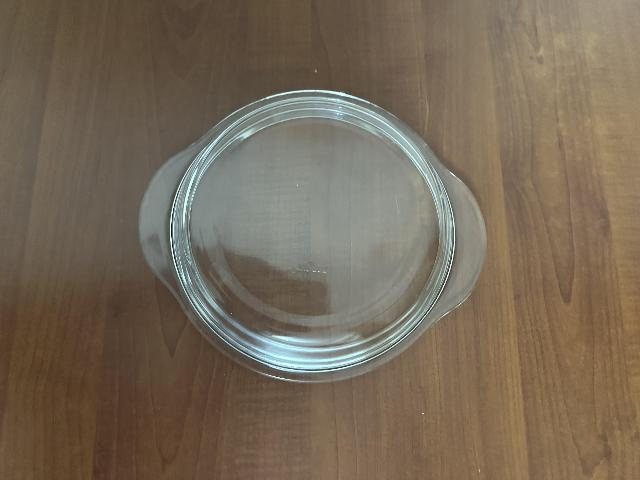Cam: (138, 87, 490, 384)
